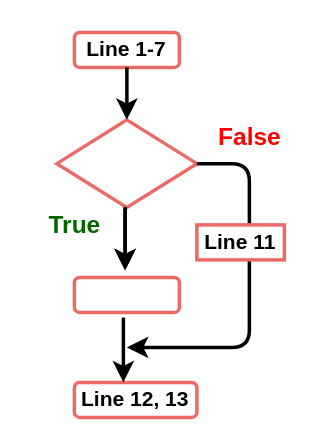
Image size: 322x448. Some labels were removed from this diagram. Each missing label, with the centre of its shape:
"Line 9" goes at point (126, 294).
"Line-8 ?" goes at point (126, 162).
